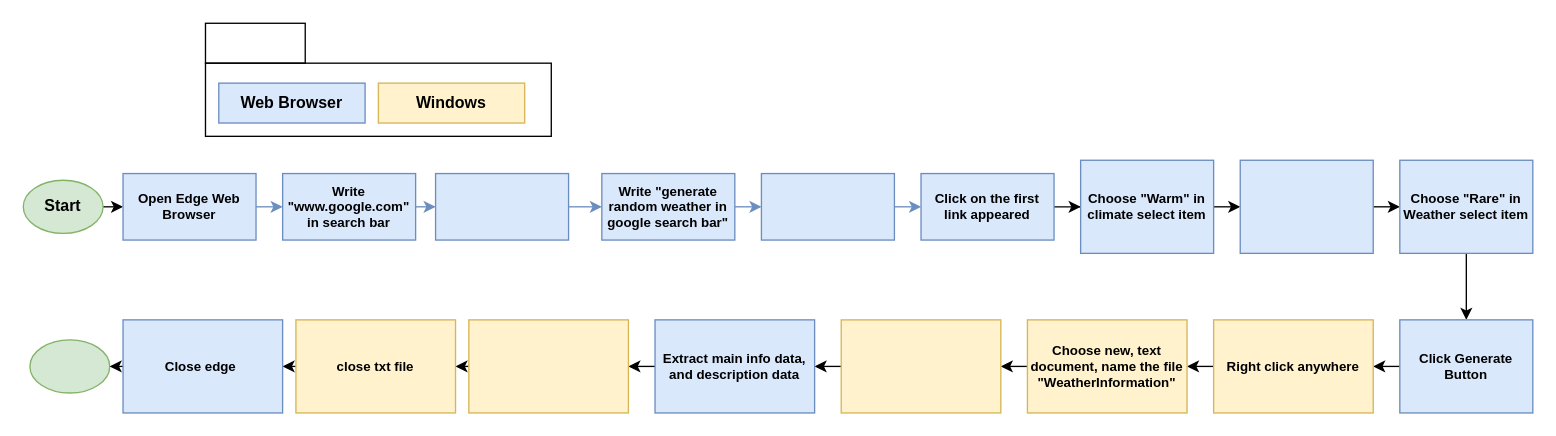
Image size: 1556x436. Some labels were removed from this diagram. Each missing label, with the centre of its shape:
Choose "Winter" in Season select item: [1306,206]
Color Map: [254,42]
End: [69,365]
Open the file: [920,366]
Paste data into txt file: [547,366]
Press Enter: [501,206]
Press google search button: [827,206]
